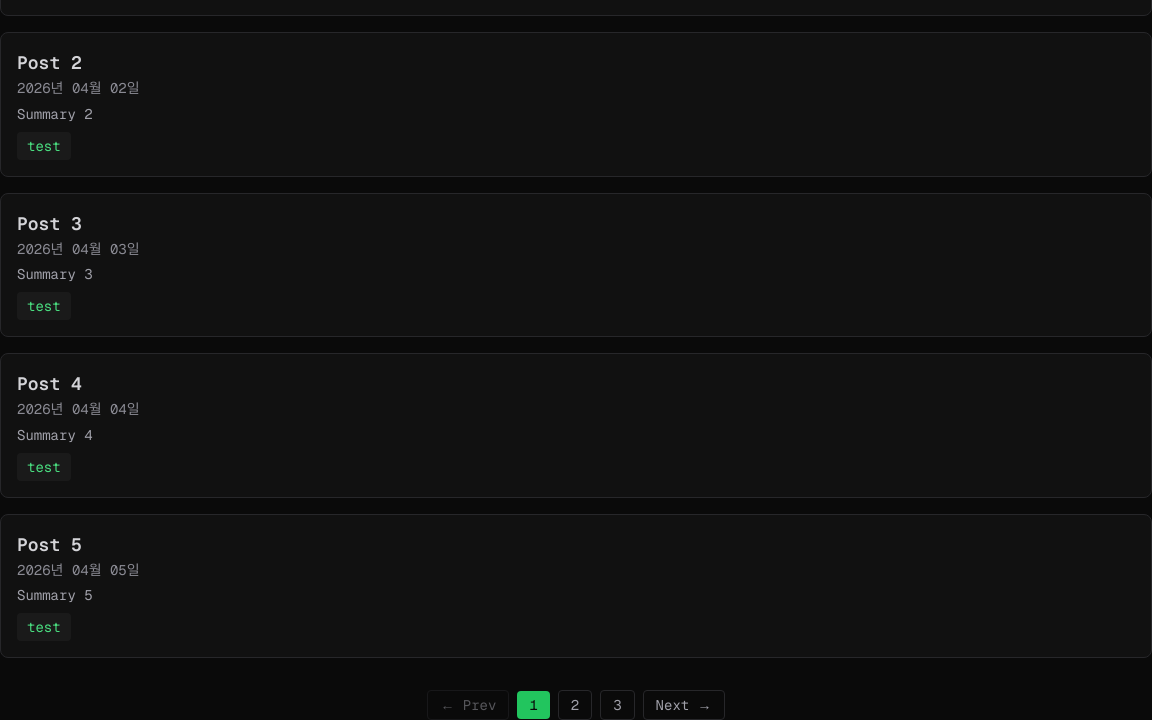
Scenario: PostList › disables next button on last page
(page scrolled)
Click the button "3" at (617, 705), box [600,690,635,719]
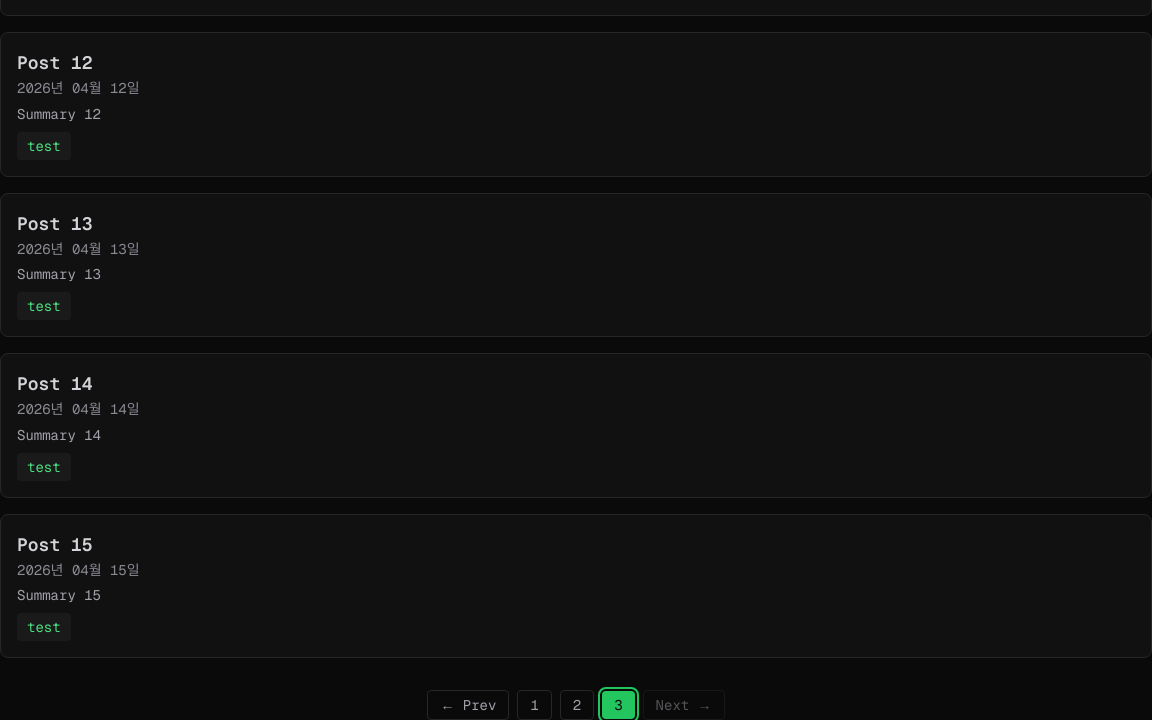
Expected: the button "Next →" is disabled, [643,690,725,719]
